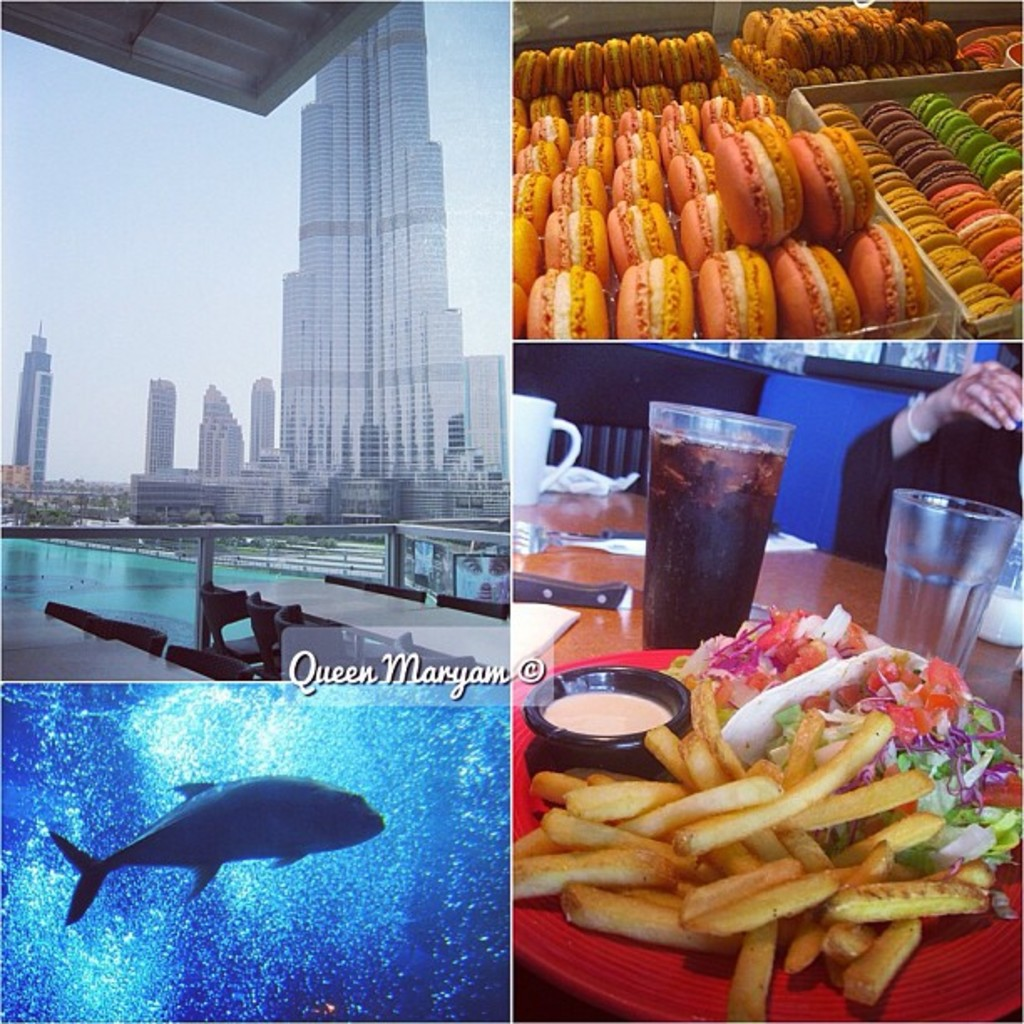French fries: (513, 675, 992, 1022)
